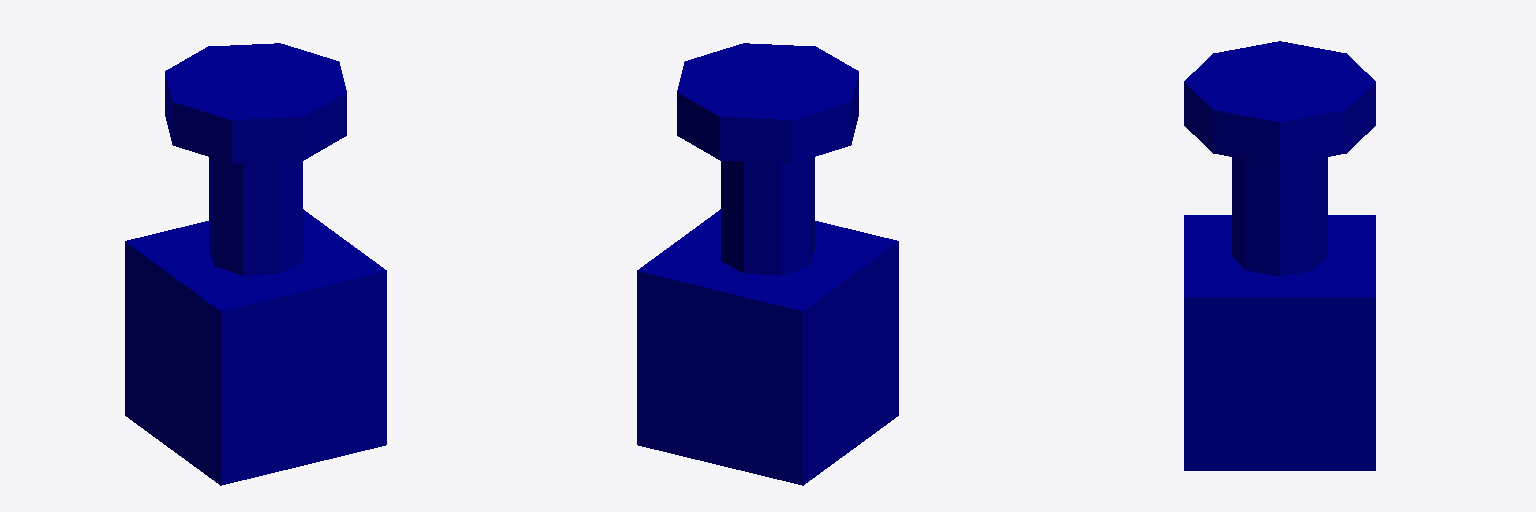
The model's file is tesla.obj.
3 renders of one model, left to right at view 1: azimuth 30°, elevation 25°; view 2: azimuth 150°, elevation 25°; view 3: azimuth 270°, elevation 25°, orthographic.
Visible parts, largest first — view 1: Cube; view 2: Cube; view 3: Cube.
Part boxes in pixels (x1,y1,x2,y2): Cube: (125, 43, 386, 485); Cube: (637, 43, 898, 485); Cube: (1184, 41, 1375, 470).
Size of the model in its own units: 1 by 2 by 1.